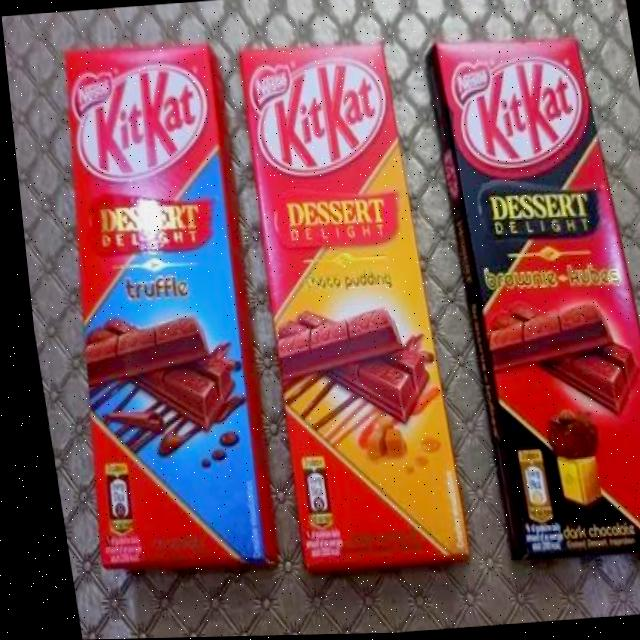kitkat: (28, 38, 274, 576), (231, 40, 458, 569), (418, 31, 640, 568)
